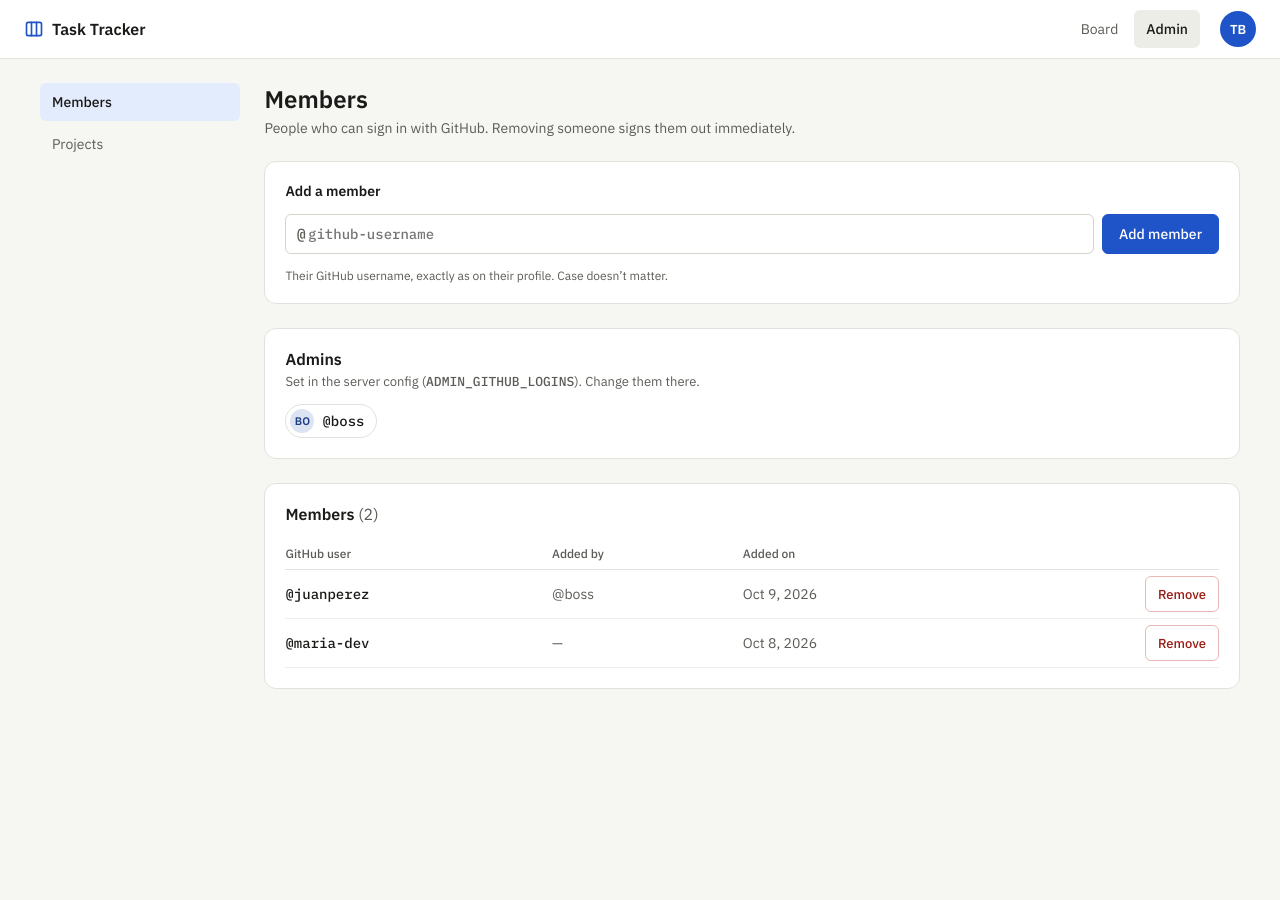
Test: Members › asks for confirmation before removing a member
The image size is (1280, 900).
What coordinates should you click on to do the following:
click the button with aria-label "Remove @juanperez"
I would click on:
 (1182, 594)
Its box is [1145,576,1219,612].
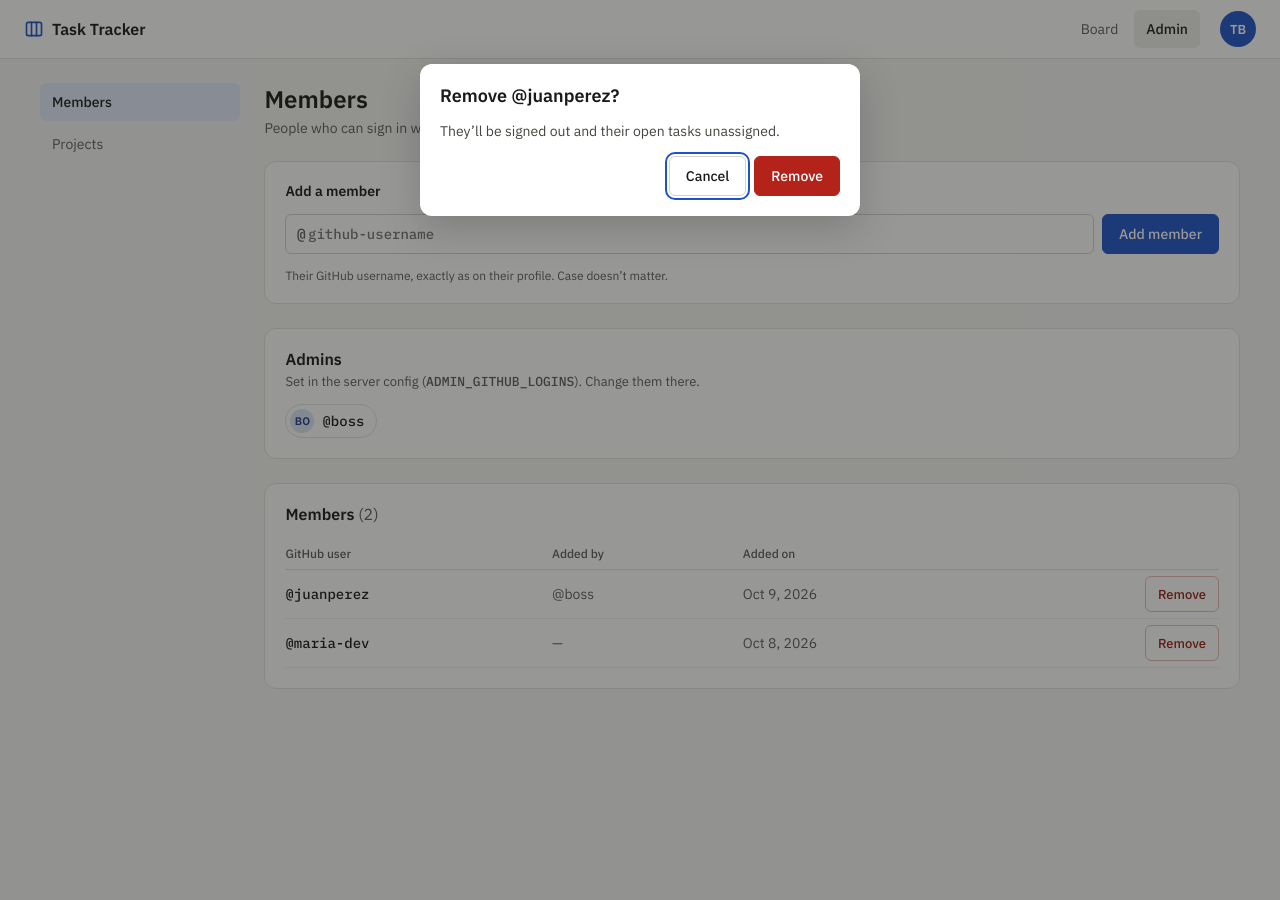
What coordinates should you click on to do the following:
click the button "Cancel"
I would click on:
 (708, 176)
Its box is [669,156,746,196].
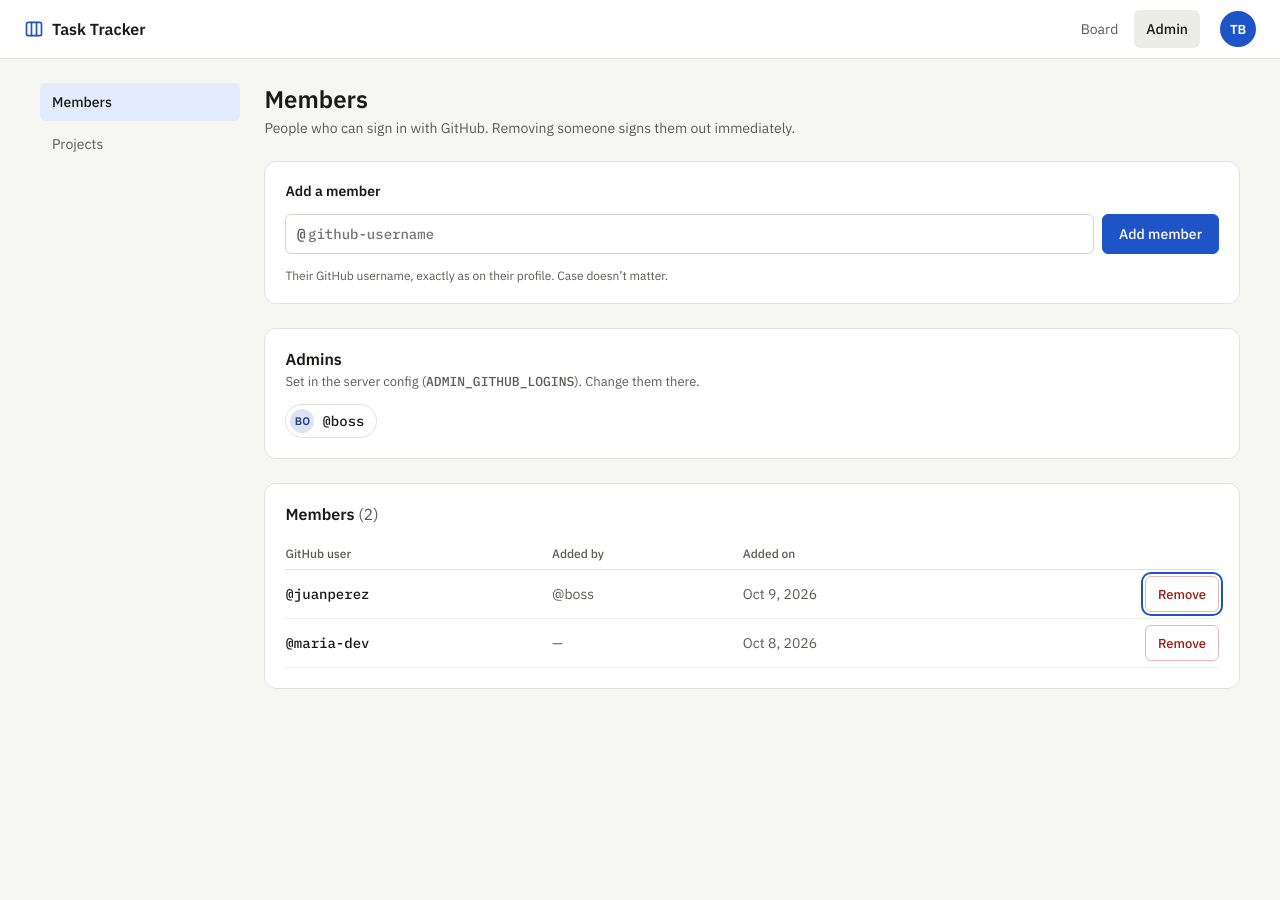
Now the dialog is gone
What coordinates should you click on to do the following:
click the button with aria-label "Remove @juanperez"
I would click on:
 (1182, 594)
Its box is [1145,576,1219,612].
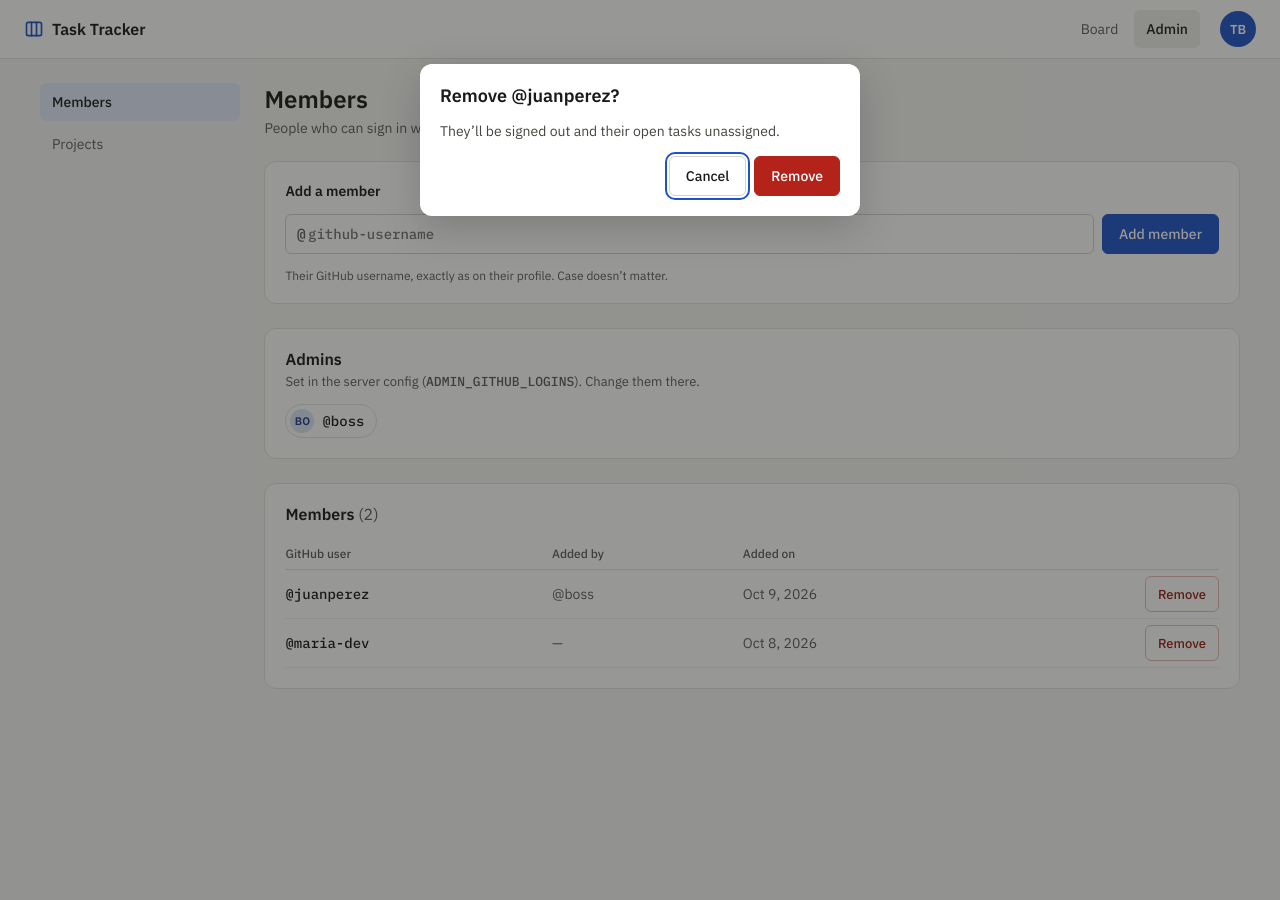
What coordinates should you click on to do the following:
click the button "Remove"
I would click on:
 (797, 176)
Its box is [754,156,840,196].
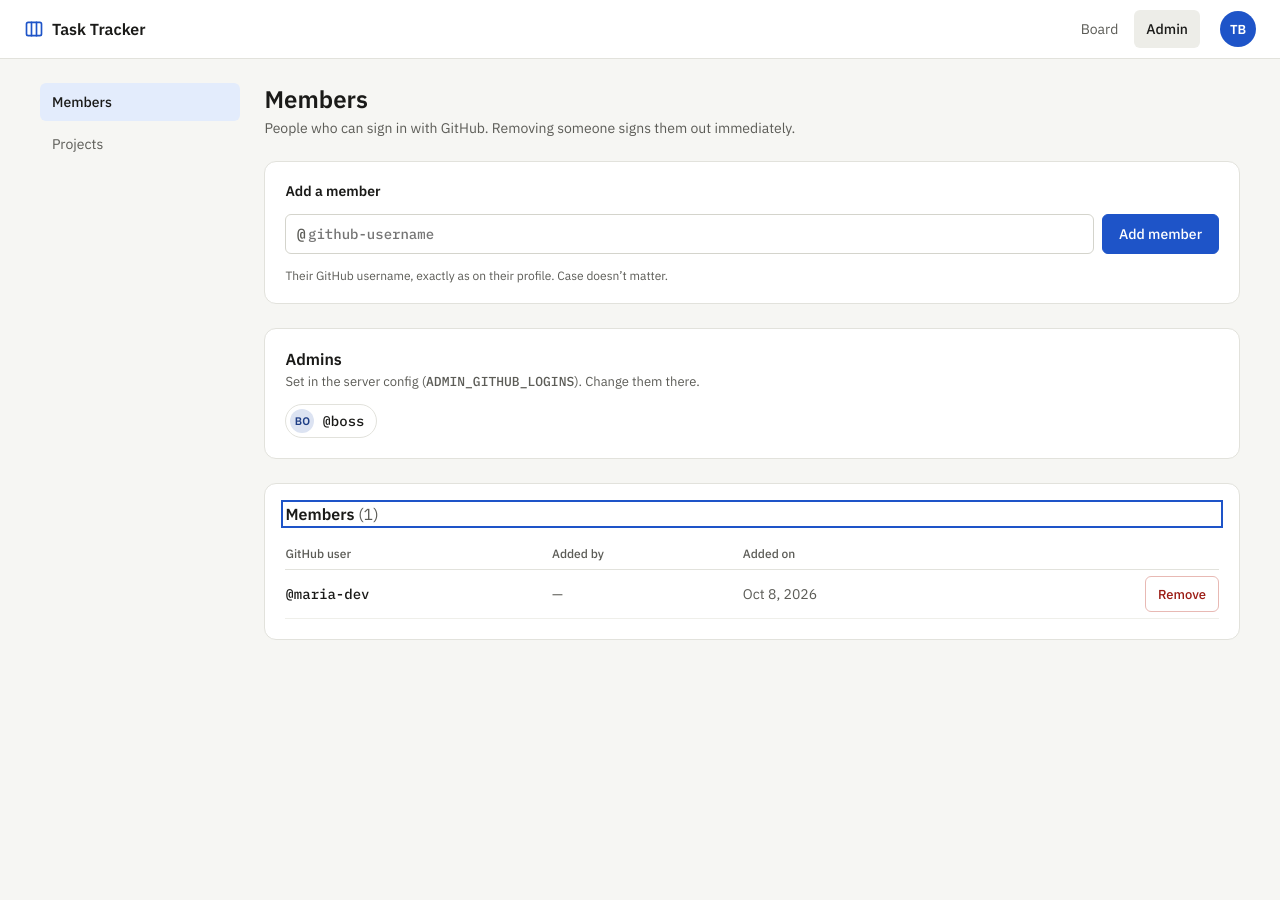
Now the dialog is gone
Now the element "Members (1)" no longer shows "@juanperez", box [264,483,1240,640]
